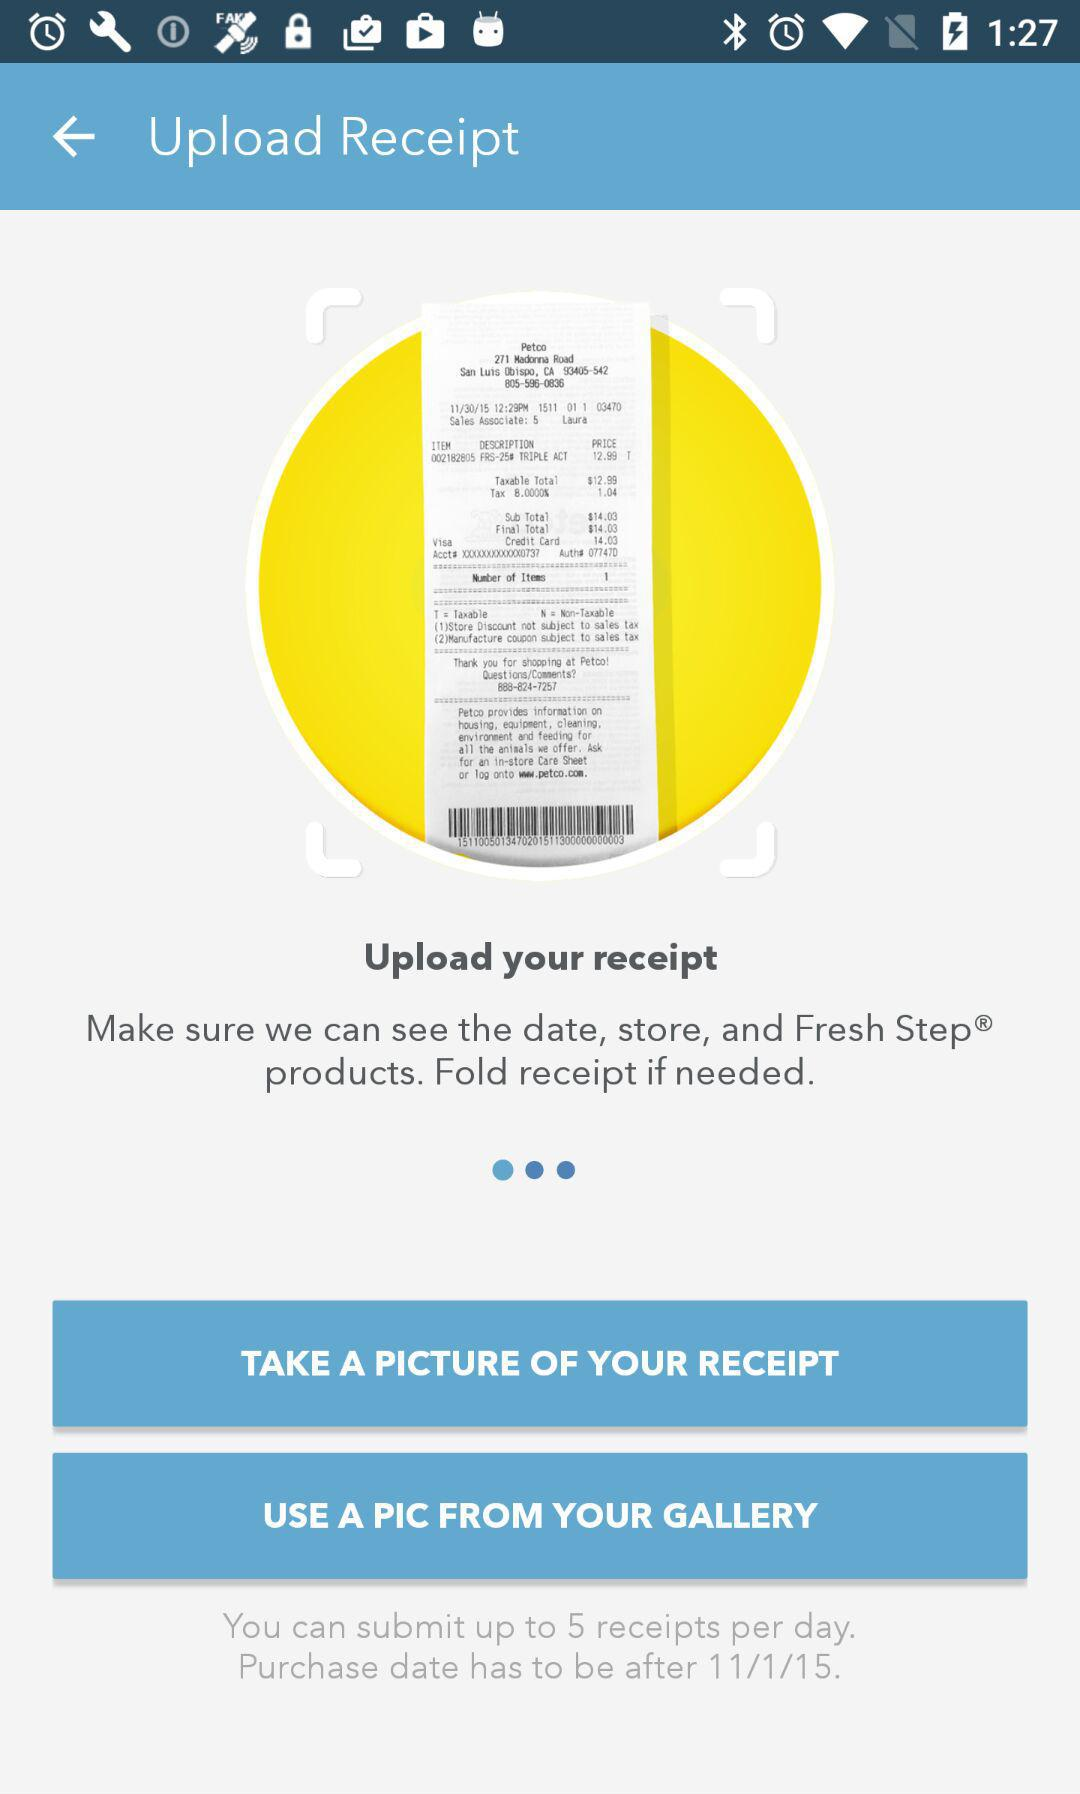Icon: (53, 115, 97, 160)
Image: (241, 288, 837, 882)
PageIndicator: (489, 1156, 578, 1184)
Text: (87, 1012, 994, 1096), (222, 1609, 856, 1683), (150, 113, 521, 170), (365, 941, 719, 982)
TextButton: (53, 1452, 1029, 1581), (53, 1299, 1029, 1428)
Toolbar: (1, 64, 1080, 211)
UpperTaskBar: (1, 1, 1080, 64)
